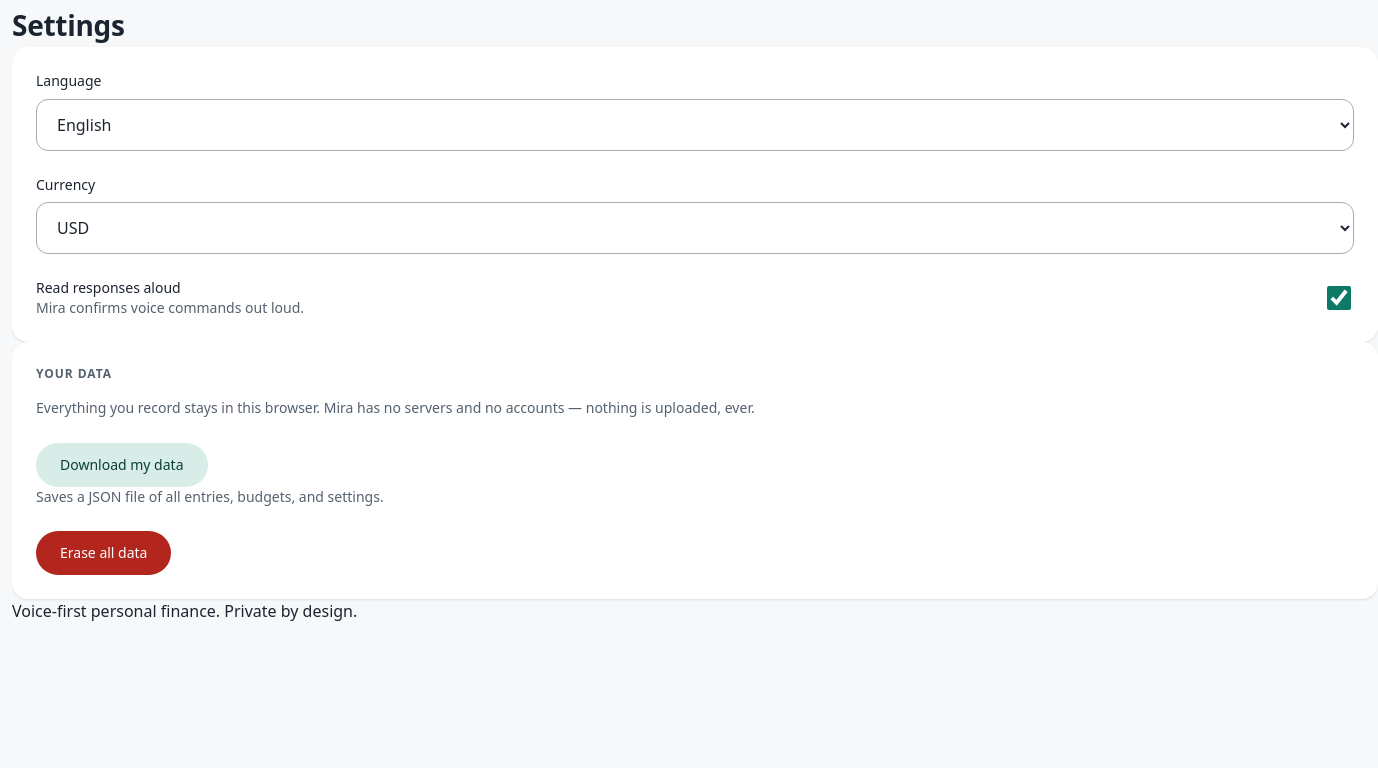
SettingsPage › switches the app language live
The width and height of the screenshot is (1378, 768).
Expected: the text "Voice-first personal finance. Private by design." is shown, [12,600,357,622]
Select "Español" in the dropdown labelled "Language" at (695,125), box [36,99,1354,151]
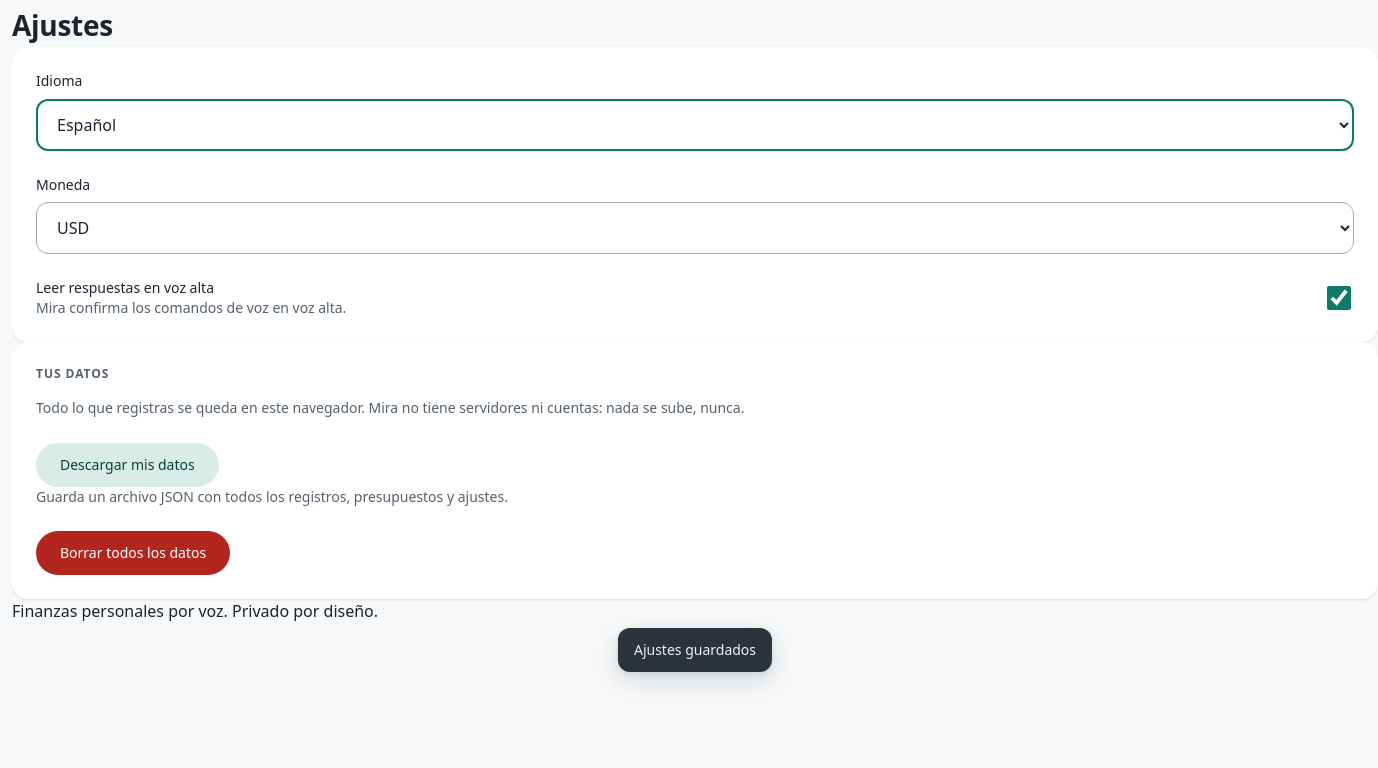
Expected: the text "Finanzas personales por voz. Privado por diseño." is shown, [12,600,378,622]
Expected: the message reads "Ajustes guardados", [634,640,756,659]
